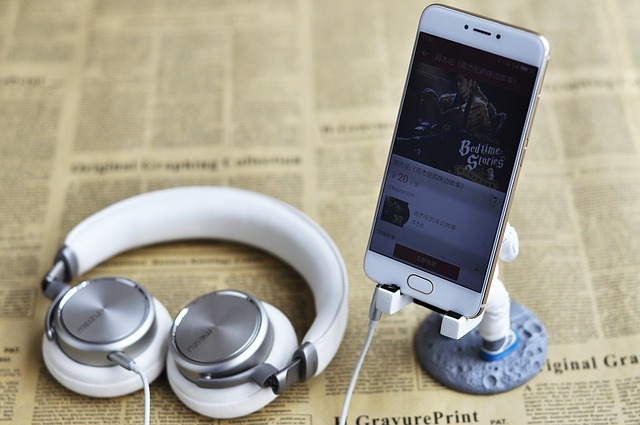headphones: (41, 187, 348, 418)
